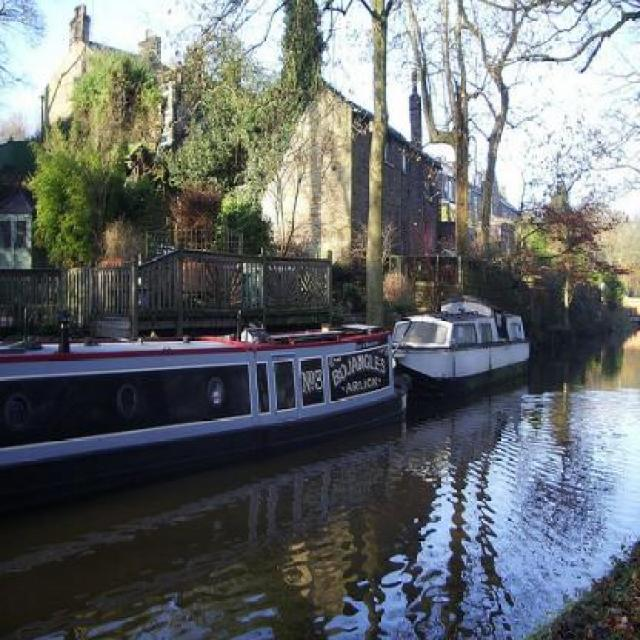ship: (0, 321, 442, 454), (388, 288, 548, 384)
